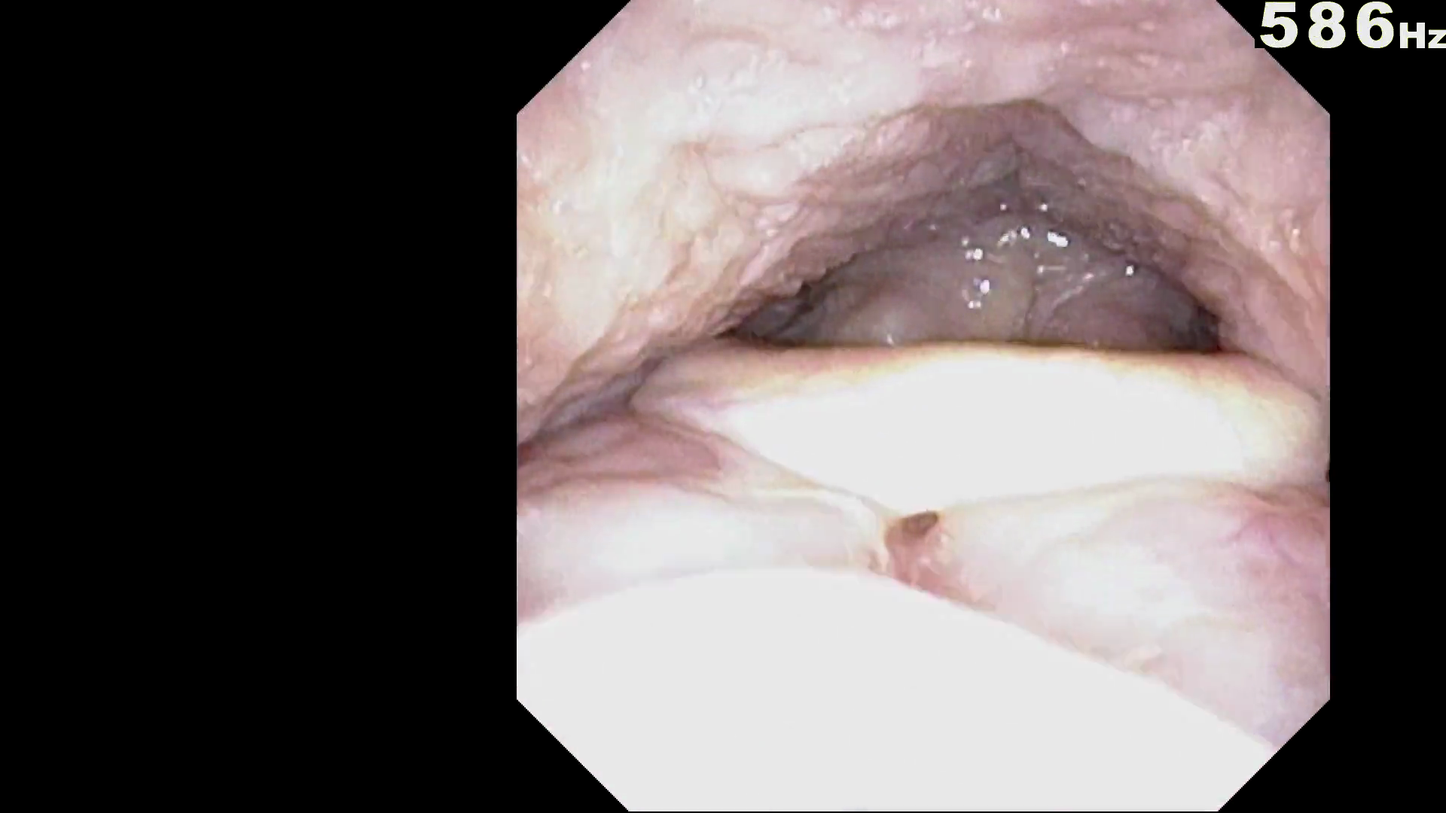epiglottis: (649, 276, 1300, 584)
